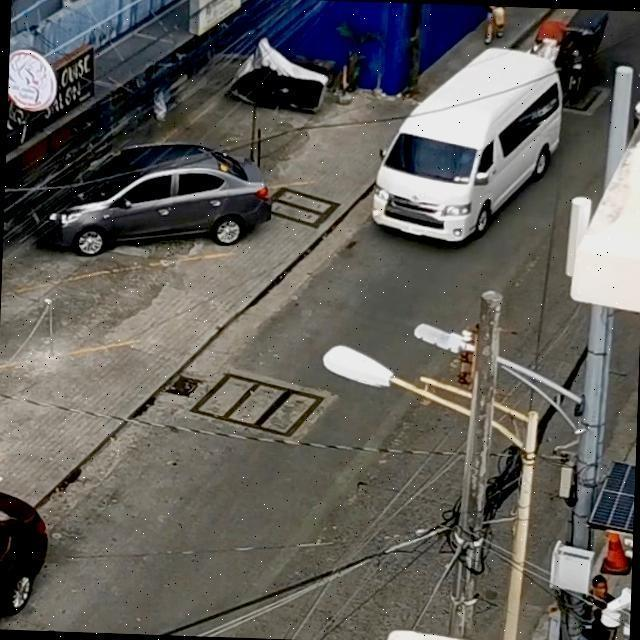Tricycle: (532, 8, 608, 100)
